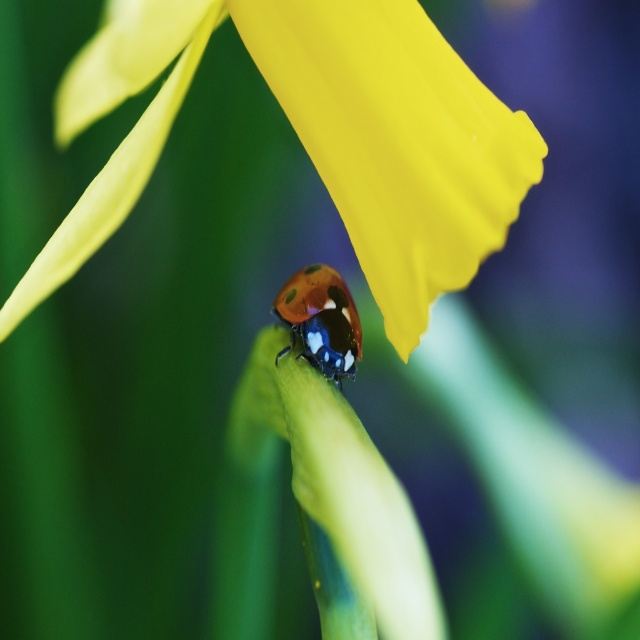Ladybug: (269, 258, 364, 393)
